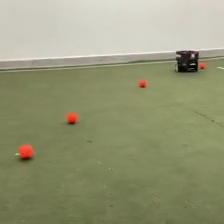ball: (17, 142, 34, 160), (66, 110, 78, 125), (138, 78, 147, 87), (199, 60, 206, 69)
robot: (174, 47, 199, 74)
